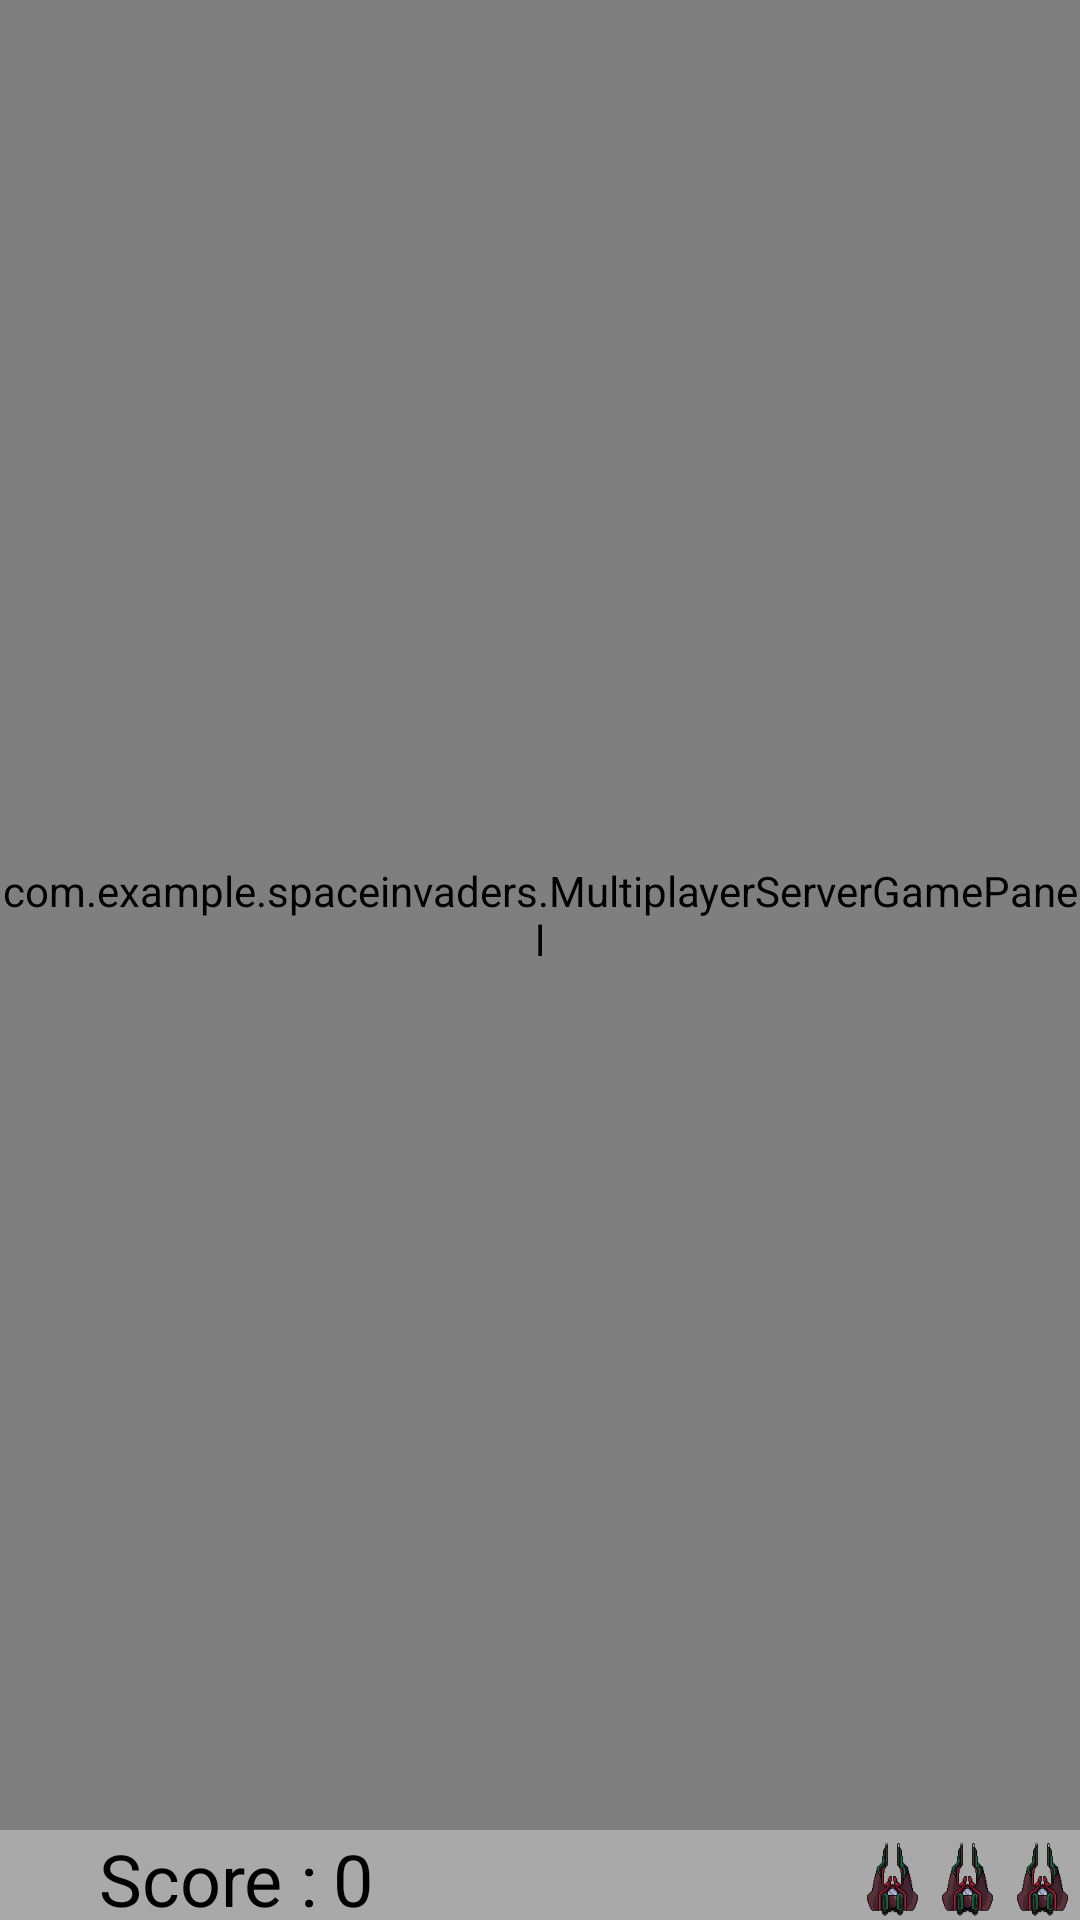

Named icons in this screenshot (1080 × 1920) and their bounding boxes, [x1,y1,x2,y2]:
playerfighteridle: [867,1843,918,1916], [942,1843,993,1916], [1017,1843,1068,1916]
